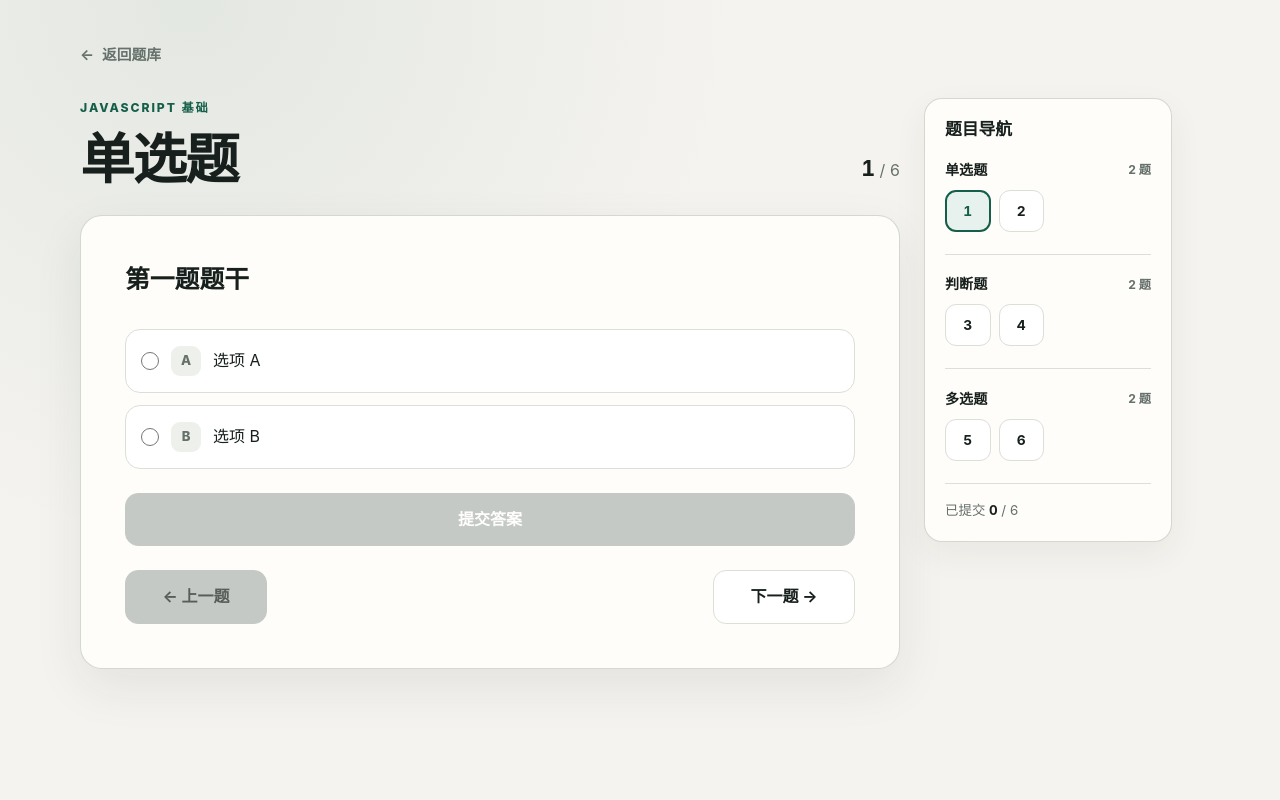
PracticePage › keeps the current draft when navigation fails and updates position only after retry
Expected: the text "第一题题干" is shown, [125,264,249,294]
Step 1. Click the radio button labelled "A 选项 A" → (150, 361), box [141,352,159,370]
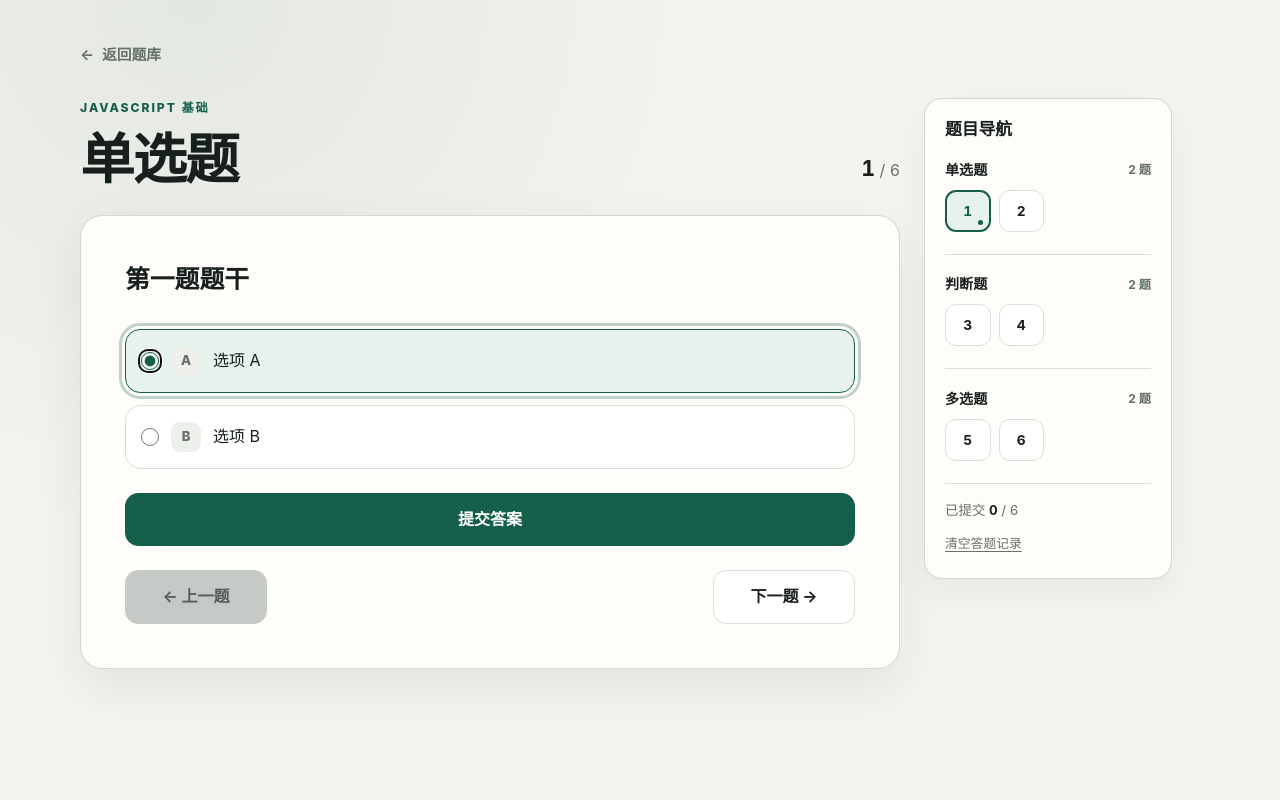
Step 2. Click the button "下一题 →" → (784, 597), box [713,570,855,624]
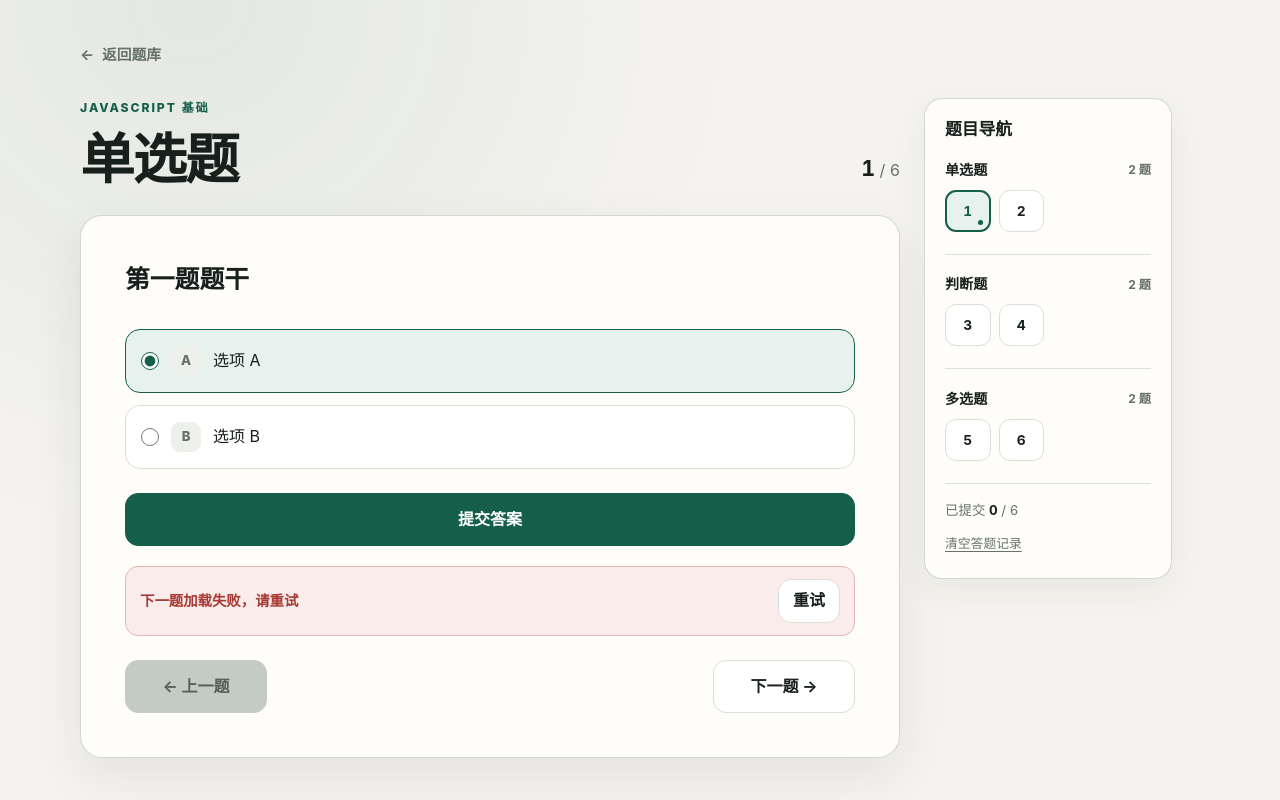
Expected: the text "第一题题干" is shown, [125,264,249,294]
Expected: the radio button labelled "A 选项 A" is checked, [141,352,159,370]
Expected: the text "下一题加载失败，请重试" is shown, [140,590,298,612]
Step 3. Click the button "重试" → (809, 601), box [778,579,840,623]
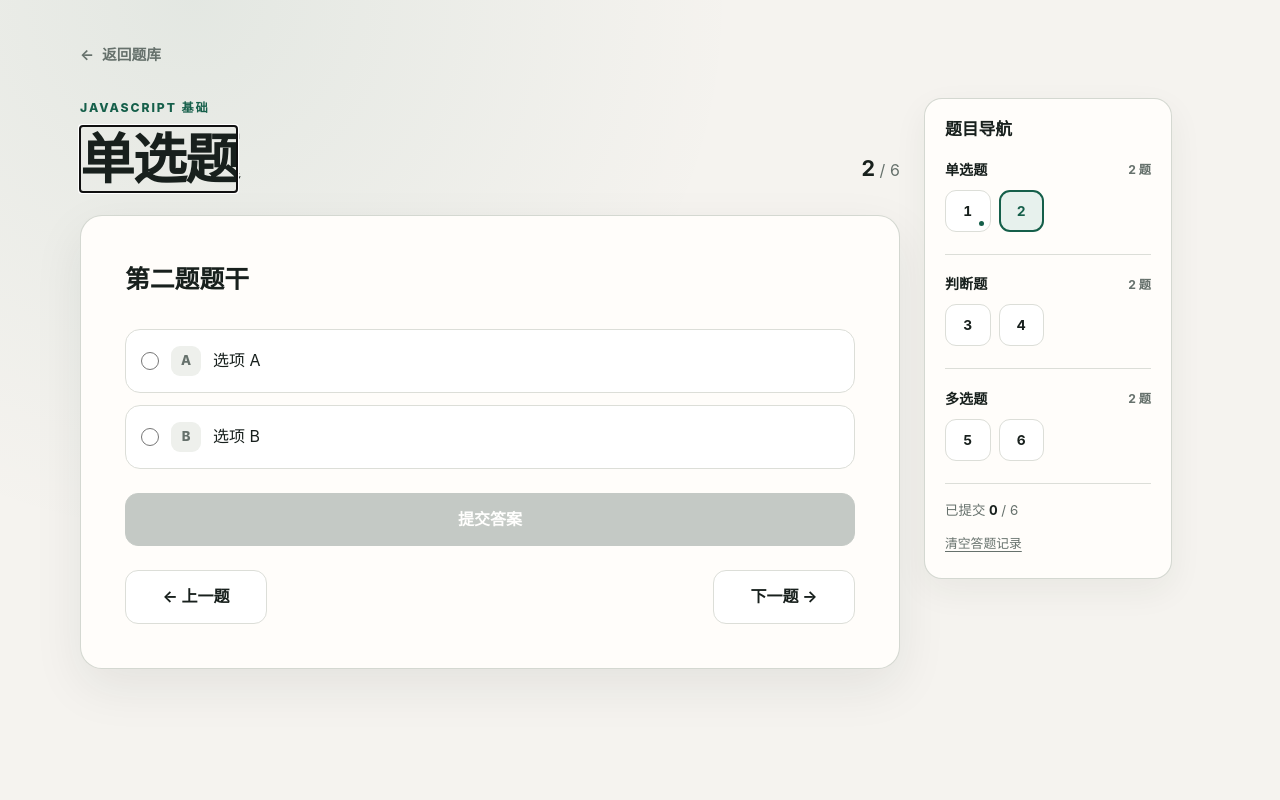
Expected: the text "第二题题干" is shown, [125,264,249,294]
